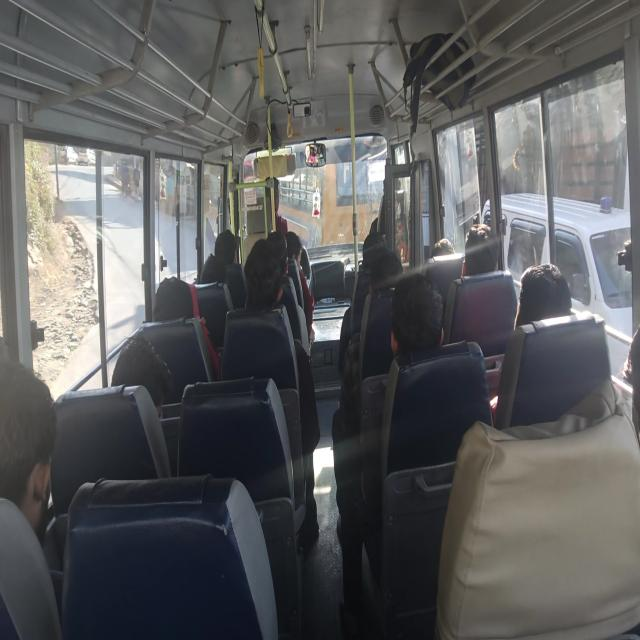person: (0, 369, 50, 586), (114, 334, 175, 428), (500, 260, 569, 328), (389, 275, 433, 357), (464, 225, 502, 285), (247, 252, 276, 324), (154, 268, 189, 327), (374, 259, 407, 302), (210, 236, 239, 277), (199, 254, 222, 294), (272, 244, 293, 278), (358, 229, 383, 256), (284, 231, 298, 266), (436, 240, 455, 263)
